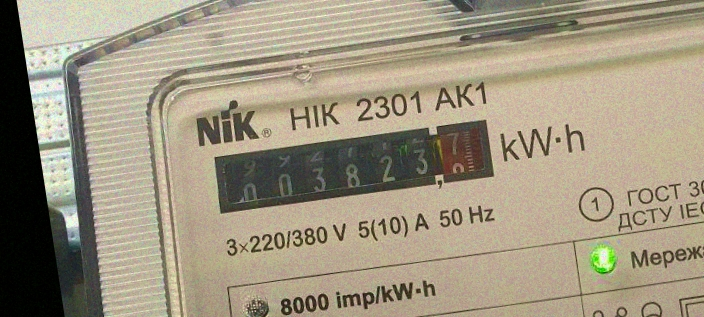0: (271, 167, 295, 197), (238, 177, 260, 202)
2: (375, 150, 399, 184)
3: (409, 144, 432, 176), (307, 161, 329, 193)
7: (444, 128, 465, 159)
8: (341, 158, 362, 188)
9: (237, 156, 258, 177)
screen: (204, 109, 499, 222)
